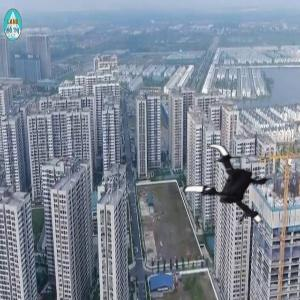drone: (183, 138, 286, 241)
